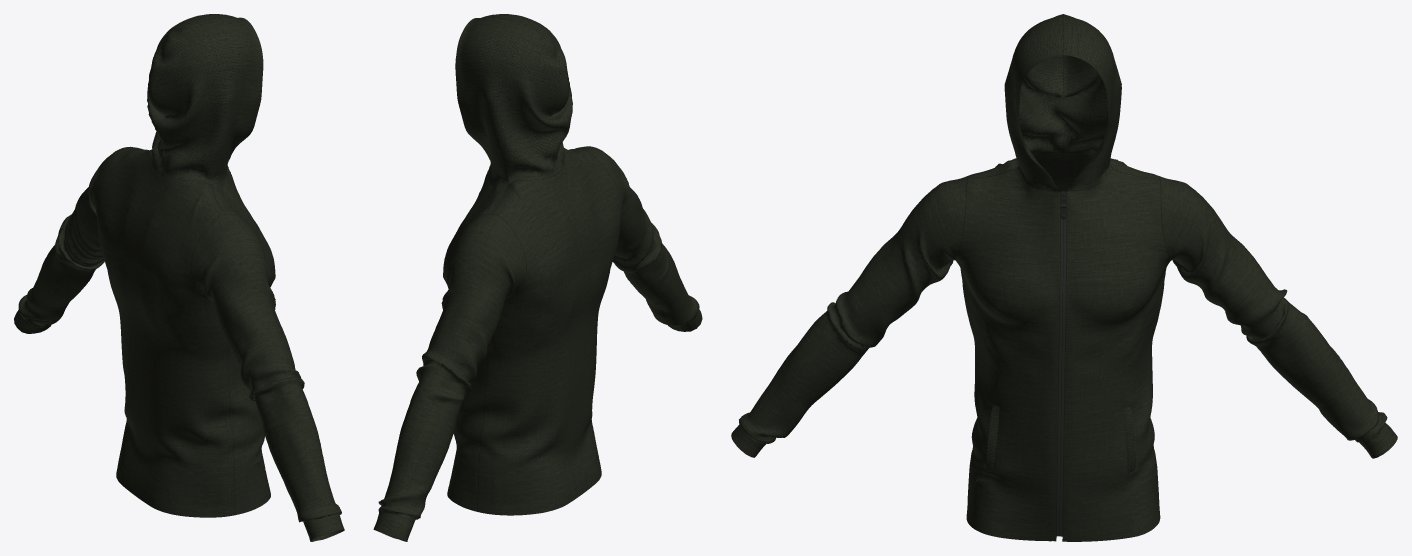
The model's file is hoodie_v2.glb.
3 views of the same model, side by side, from view 1: azimuth 30°, elevation 25°; view 2: azimuth 150°, elevation 25°; view 3: azimuth 270°, elevation 25° (orthographic). The views are drawn at different scales.
Parts seen in each view (by area): view 1: Object_9, Object_16, Object_10, Object_7, Object_5, Object_11, Object_6; view 2: Object_9, Object_7, Object_11, Object_16, Object_4, Object_10, Object_8; view 3: Object_4, Object_5, Object_16, Object_7, Object_11, Object_10, Object_9, Object_13, Object_12.
Part boxes in pixels (bbox=[...]): Object_9: bbox=[94, 149, 234, 517]; Object_16: bbox=[191, 214, 341, 523]; Object_10: bbox=[148, 17, 263, 184]; Object_7: bbox=[18, 146, 143, 327]; Object_5: bbox=[210, 167, 275, 515]; Object_11: bbox=[147, 14, 246, 173]; Object_6: bbox=[304, 513, 344, 541]; Object_9: bbox=[477, 148, 622, 515]; Object_7: bbox=[378, 214, 526, 523]; Object_11: bbox=[455, 17, 569, 184]; Object_16: bbox=[575, 146, 699, 326]; Object_4: bbox=[443, 166, 507, 511]; Object_10: bbox=[472, 14, 572, 172]; Object_8: bbox=[373, 512, 413, 541]; Object_4: bbox=[1062, 169, 1170, 541]; Object_5: bbox=[956, 169, 1060, 541]; Object_16: bbox=[739, 176, 968, 443]; Object_7: bbox=[1159, 176, 1387, 443]; Object_11: bbox=[1056, 14, 1121, 191]; Object_10: bbox=[1004, 14, 1064, 191]; Object_9: bbox=[960, 152, 1166, 466]; Object_13: bbox=[1056, 191, 1063, 536]; Object_12: bbox=[1059, 191, 1066, 536].
Size of the model in its own units: 254 by 916 by 1108.
Materials: 15 (15 with a texture image).
